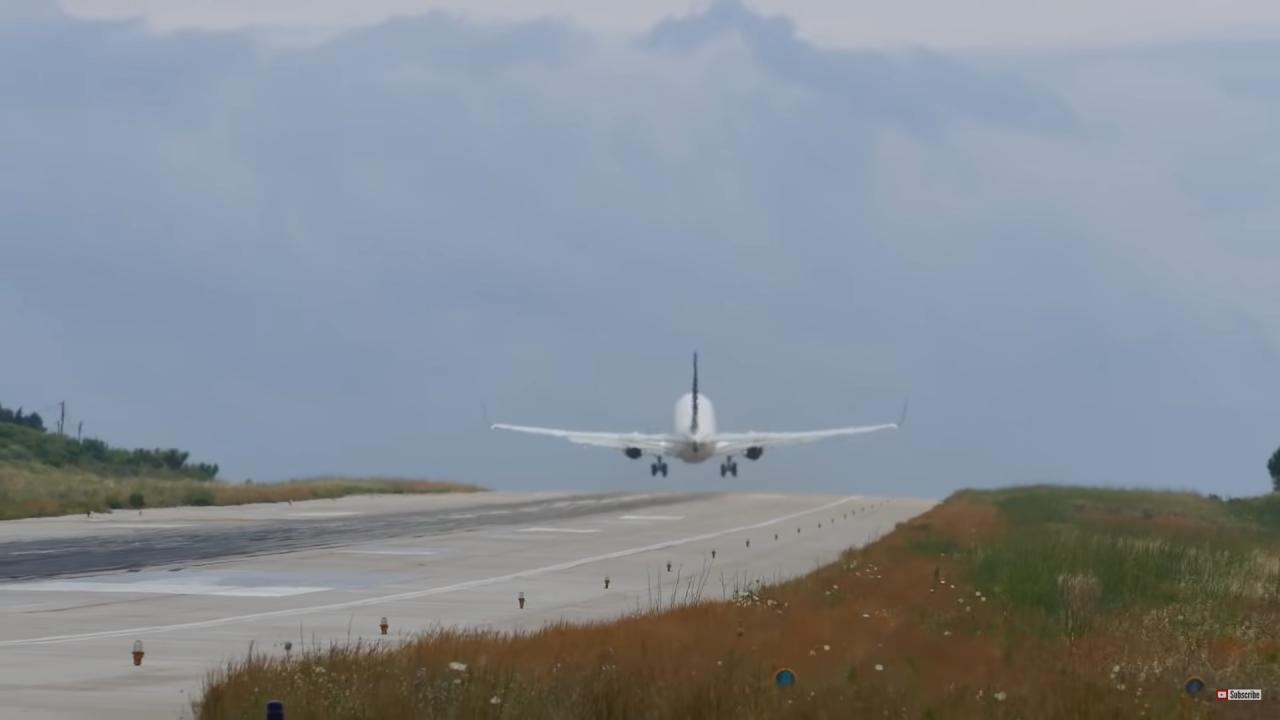Airplane: (471, 341, 919, 485)
